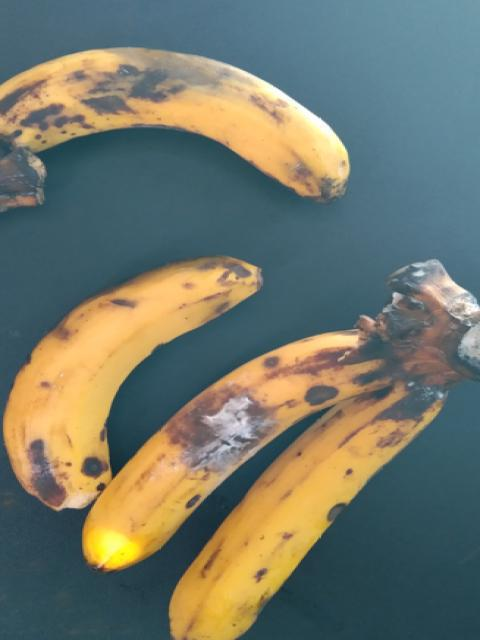ripe: (0, 12, 379, 216), (8, 251, 273, 515), (174, 416, 448, 639)
rotten: (78, 328, 392, 589)
